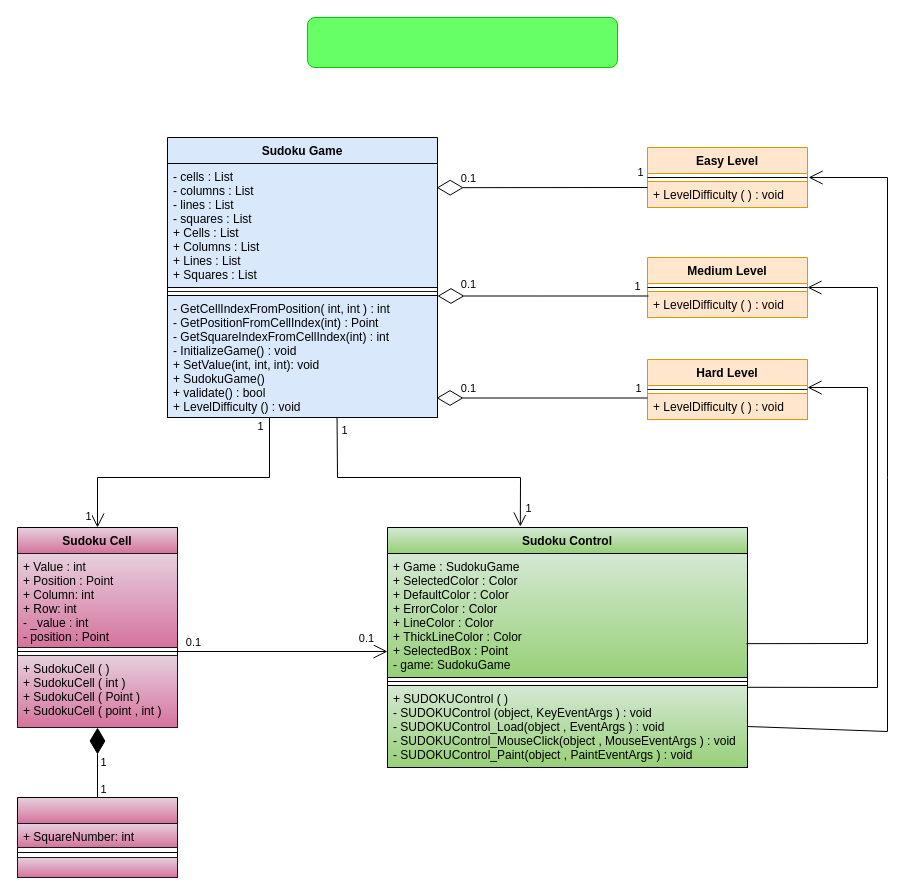
This 919x895 diagram has some shape labels left out. The shapes that lost their labels are listed below. From the top down, each one's box as (x1, y1, x2, y2) in pixels, then its label:
(306, 16, 618, 68): Sudoku Game Class Diagram
(16, 796, 178, 878): Sudoku Square
